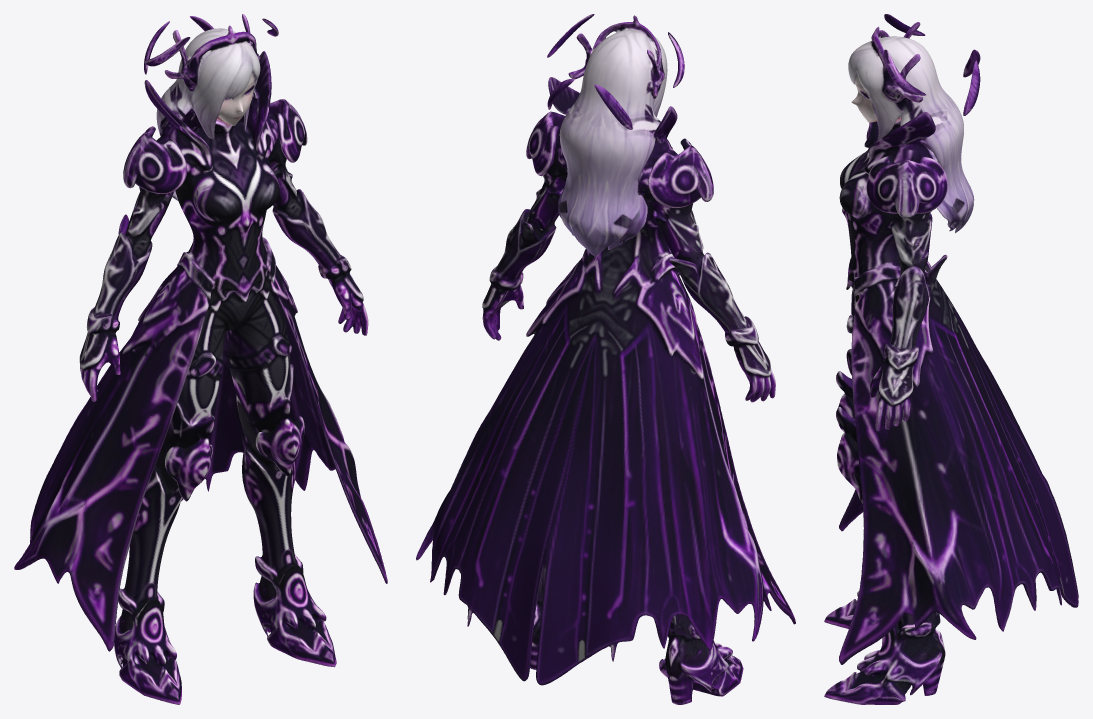
Rendered from sera_n3.glb.
3 renders of one model, left to right at view 1: azimuth 30°, elevation 25°; view 2: azimuth 150°, elevation 25°; view 3: azimuth 270°, elevation 25°, orthographic. The views are drawn at different scales.
Size of the model in its own units: 1.03 by 1.9 by 0.691.
Materials: 1 (1 with a texture image).
